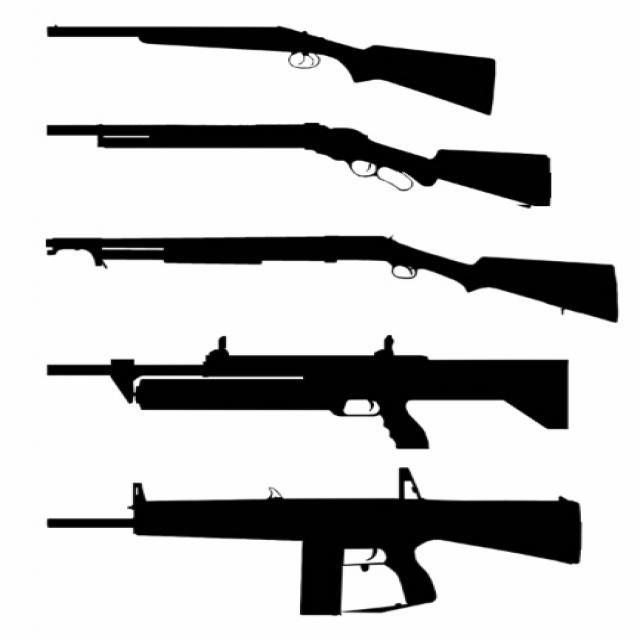rifle: (26, 465, 590, 625), (47, 346, 599, 441)
shotgun: (30, 227, 629, 339), (40, 11, 541, 119), (37, 124, 567, 210)
